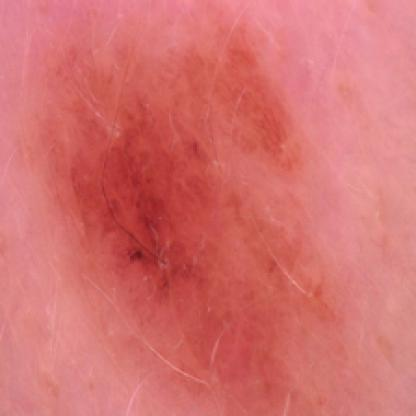benign: (58, 32, 346, 342)
